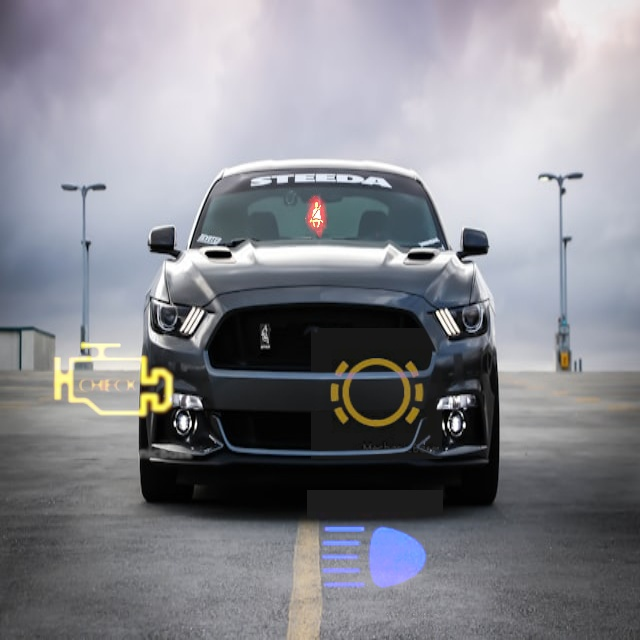symbol: (25, 293, 199, 467), (236, 141, 397, 302), (307, 490, 443, 626), (311, 328, 442, 459)
